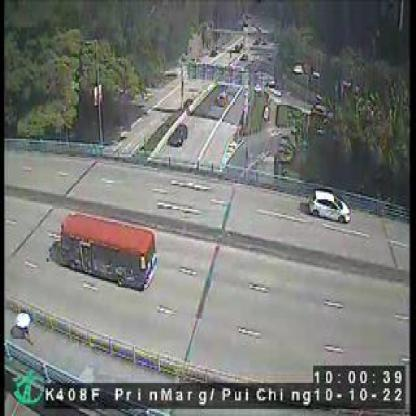Car: (304, 186, 351, 224), (168, 124, 190, 148), (218, 90, 228, 106)
Minibus: (61, 214, 157, 291)
